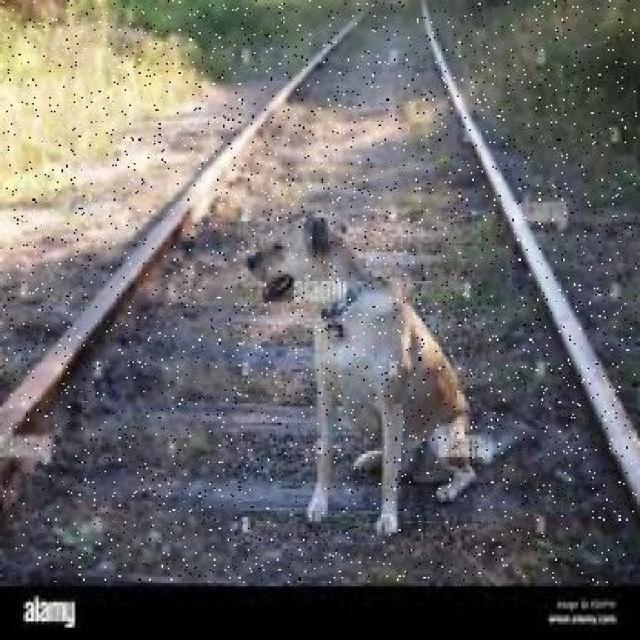danger: (234, 212, 480, 548)
rail: (3, 0, 637, 583)
